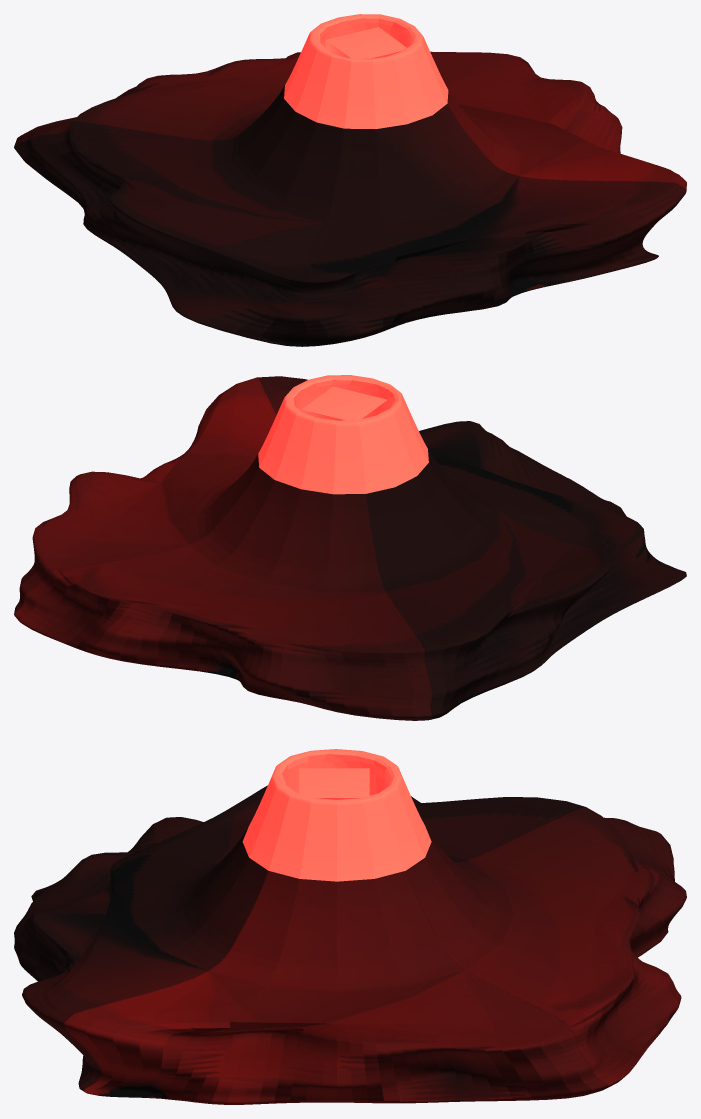
The model's file is voca.glb.
3 renders of one model, top to bottom at view 1: azimuth 30°, elevation 25°; view 2: azimuth 150°, elevation 25°; view 3: azimuth 270°, elevation 25°, orthographic. The views are drawn at different scales.
Visible parts, largest first — view 1: Cube, Cube.001; view 2: Cube, Cube.001; view 3: Cube, Cube.001.
Part boxes in pixels (<box>): Cube: <box>14,14,686,346</box>; Cube.001: <box>325,27,406,58</box>; Cube: <box>14,375,686,720</box>; Cube.001: <box>301,386,387,420</box>; Cube: <box>14,749,686,1104</box>; Cube.001: <box>299,768,369,799</box>.
Bounding box in the file's own units: 252 × 89.87 × 248.
2 materials, 1 textured.
